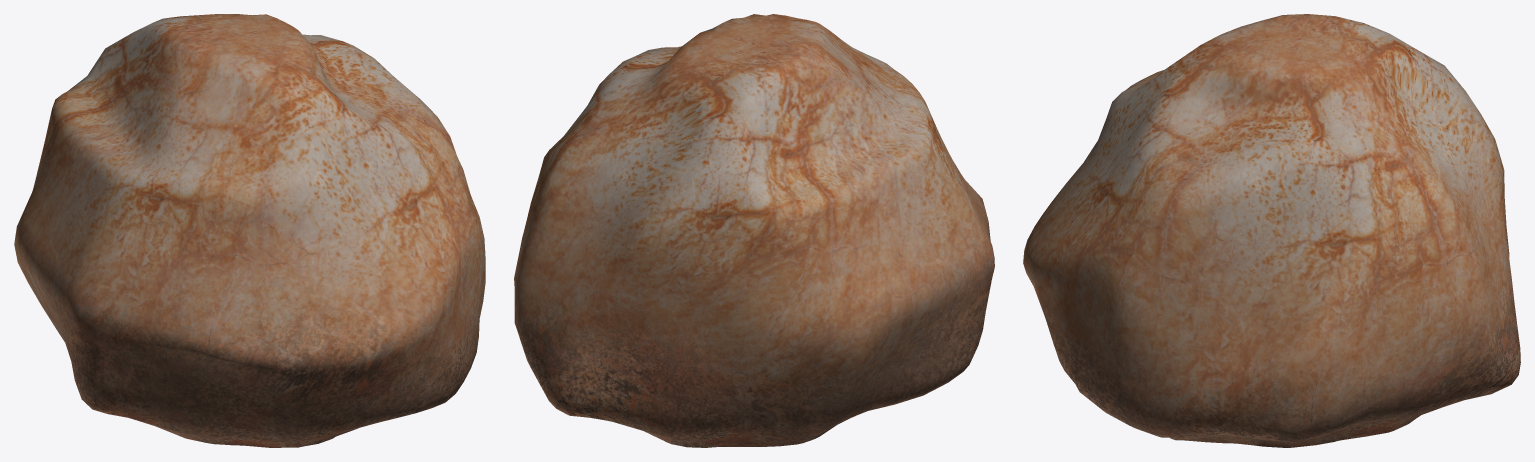
File: rockSmall03.fbx
The picture shows the model from 3 angles, left to right: view 1: azimuth 30°, elevation 25°; view 2: azimuth 150°, elevation 25°; view 3: azimuth 270°, elevation 25°; orthographic projection.
Parts seen in each view (by area): view 1: rockSmall03; view 2: rockSmall03; view 3: rockSmall03.
Part boxes in pixels (left/top/right/bottom): rockSmall03: left=14, top=14, right=485, bottom=447; rockSmall03: left=514, top=14, right=994, bottom=447; rockSmall03: left=1023, top=14, right=1520, bottom=447.
Size of the model in its own units: 0.3047 by 0.2465 by 0.3191.
Materials: 1 (1 with a texture image).
